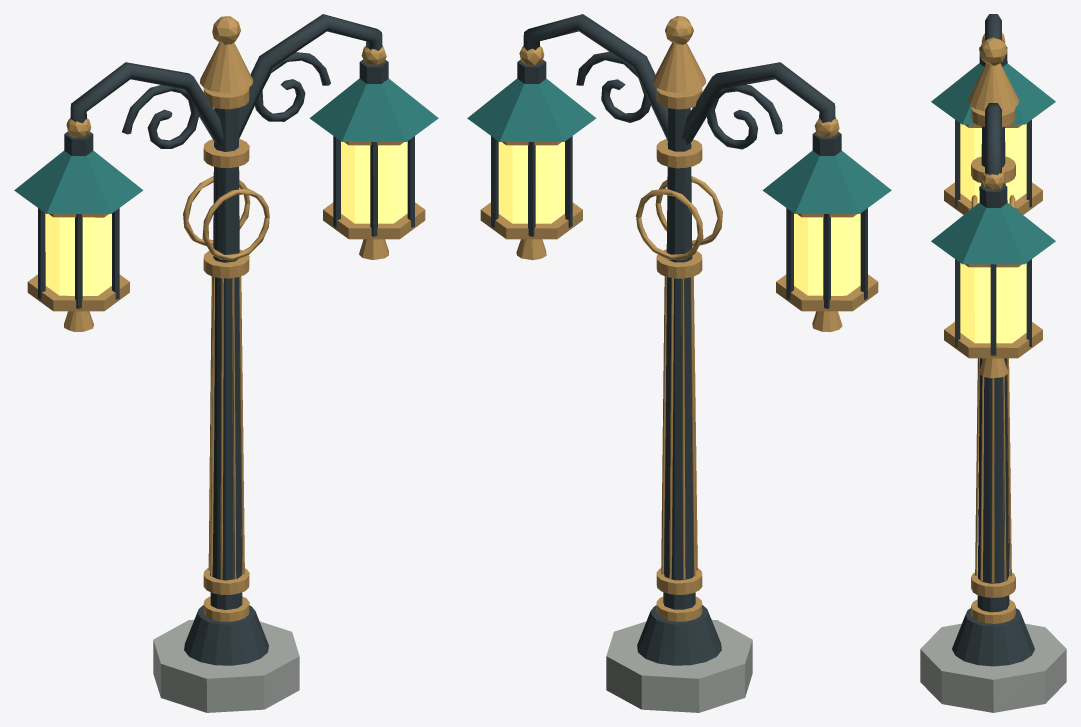
The model's file is prop_aegis_civic_streetlight_lod2.glb.
The picture shows the model from 3 angles, left to right: view 1: azimuth 30°, elevation 25°; view 2: azimuth 150°, elevation 25°; view 3: azimuth 270°, elevation 25°; orthographic projection. The views are drawn at different scales.
Visible parts, largest first — view 1: aegis_civic_streetlight.001; view 2: aegis_civic_streetlight.001; view 3: aegis_civic_streetlight.001.
Part boxes in pixels (left/top/right/bottom): aegis_civic_streetlight.001: left=14, top=14, right=438, bottom=712; aegis_civic_streetlight.001: left=467, top=14, right=891, bottom=712; aegis_civic_streetlight.001: left=920, top=14, right=1066, bottom=712.
Bounding box in the file's own units: 2.79 × 4.52 × 0.933.
